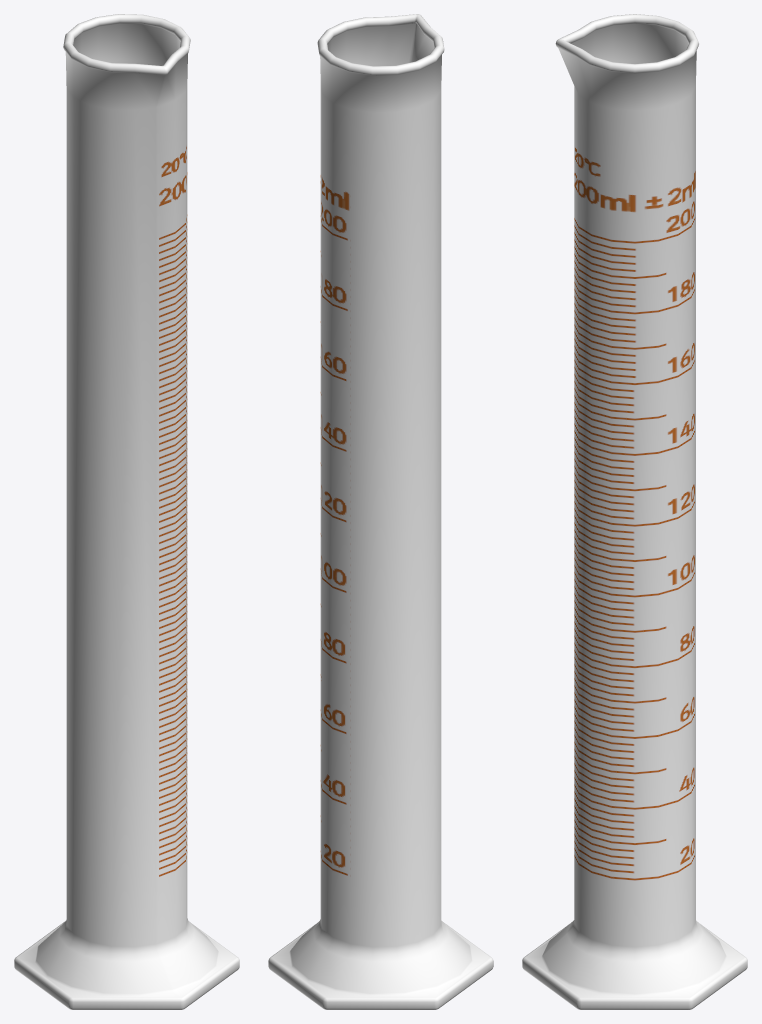
Rendered from measuring cylinder_200ml.fbx.
3 views of the same model, side by side, from view 1: azimuth 30°, elevation 25°; view 2: azimuth 150°, elevation 25°; view 3: azimuth 270°, elevation 25° (orthographic).
Parts seen in each view (by area): view 1: Cylinder; view 2: Cylinder; view 3: Cylinder.
Part boxes in pixels (left/top/right/bottom): Cylinder: left=14, top=14, right=239, bottom=1009; Cylinder: left=268, top=14, right=493, bottom=1009; Cylinder: left=522, top=14, right=747, bottom=1009.
Size of the model in its own units: 5.98 by 31.16 by 6.85.
Materials: 2 (2 with a texture image).
